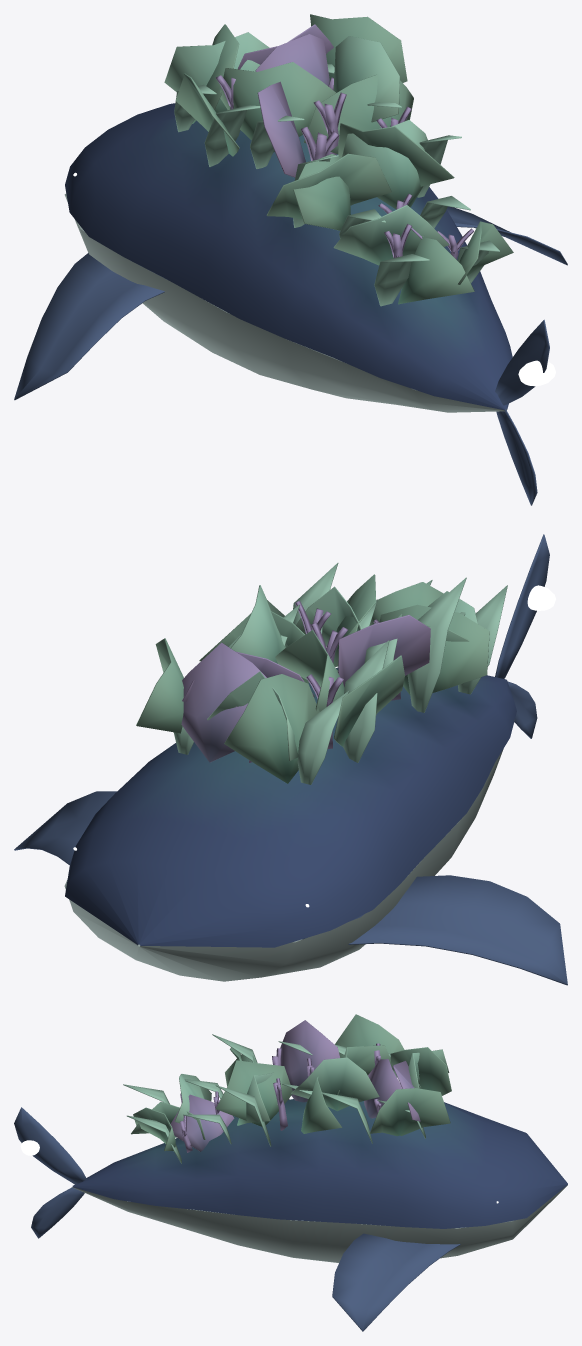
3 renders of one model, top to bottom at view 1: azimuth 30°, elevation 25°; view 2: azimuth 150°, elevation 25°; view 3: azimuth 270°, elevation 25°, orthographic. The views are drawn at different scales.
Parts seen in each view (by area): view 1: RIMWARD_HULL, RIMWARD_ENGINE_GLOW; view 2: RIMWARD_HULL, RIMWARD_ENGINE_GLOW; view 3: RIMWARD_HULL.
Part boxes in pixels (<box>): RIMWARD_HULL: <box>14,14,567,505</box>; RIMWARD_ENGINE_GLOW: <box>518,360,555,386</box>; RIMWARD_HULL: <box>14,534,567,985</box>; RIMWARD_ENGINE_GLOW: <box>518,585,555,610</box>; RIMWARD_HULL: <box>14,1014,567,1331</box>.
Bounding box in the file's own units: 66.24 × 35.98 × 85.
